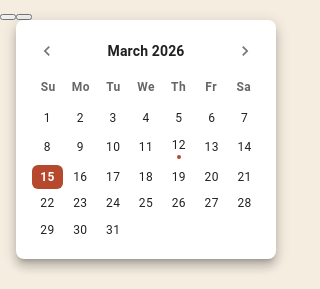
DatePickerPopover › allows next-month navigation when the next month starts before maxDate
Click the button named "next": (245, 51) [230, 36, 260, 66]
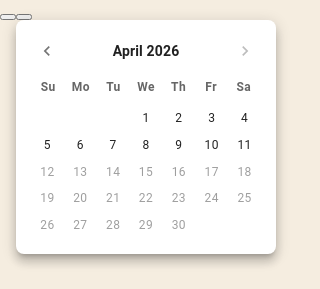
Expected: the text "April 2026" is shown, [113, 41, 179, 61]
